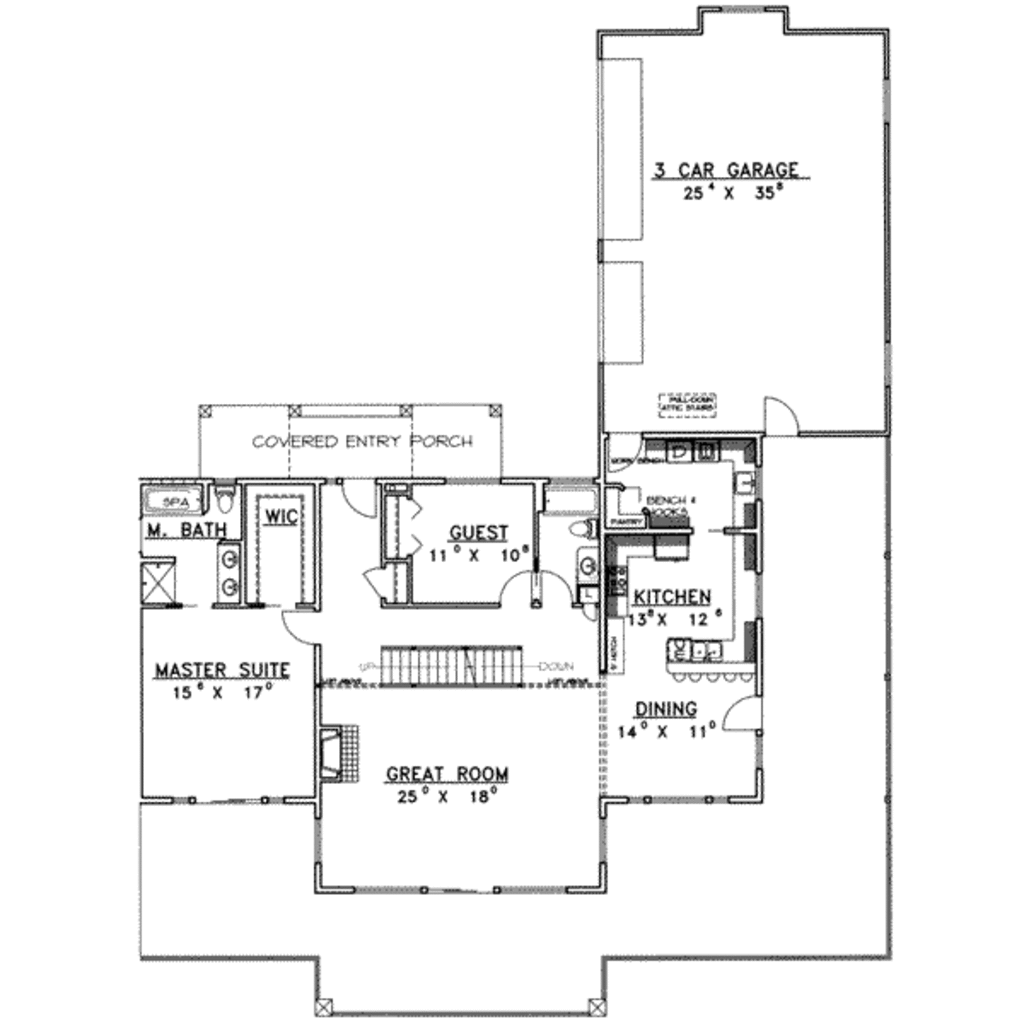door: (720, 692, 785, 744), (750, 376, 799, 439), (607, 420, 649, 481), (284, 600, 326, 660), (363, 560, 403, 612), (533, 570, 573, 622), (498, 563, 531, 611)
kitchen_bar: (665, 632, 755, 684)
large_sink: (565, 506, 598, 541), (209, 478, 233, 517)
sink: (719, 466, 763, 503)
small_sink: (217, 539, 249, 609), (577, 541, 603, 592)
stairs: (357, 622, 533, 698)
tub: (141, 478, 209, 516), (544, 482, 598, 512)
twin_sink: (684, 632, 731, 665)
